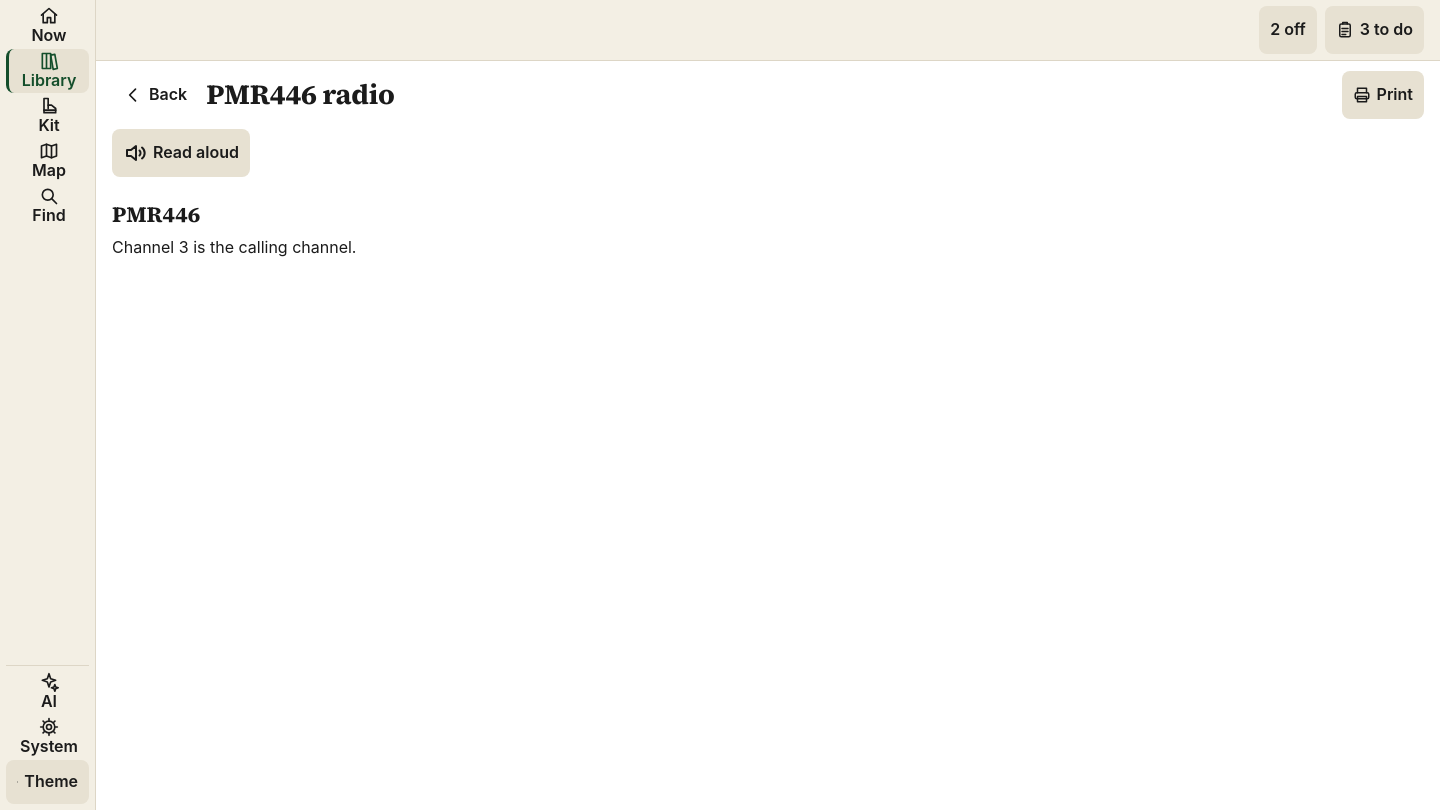
Test case: Read aloud › takes every read-aloud button away when the box answers 503
The image size is (1440, 810).
Click the button "Read aloud": (181, 153) [112, 129, 250, 177]
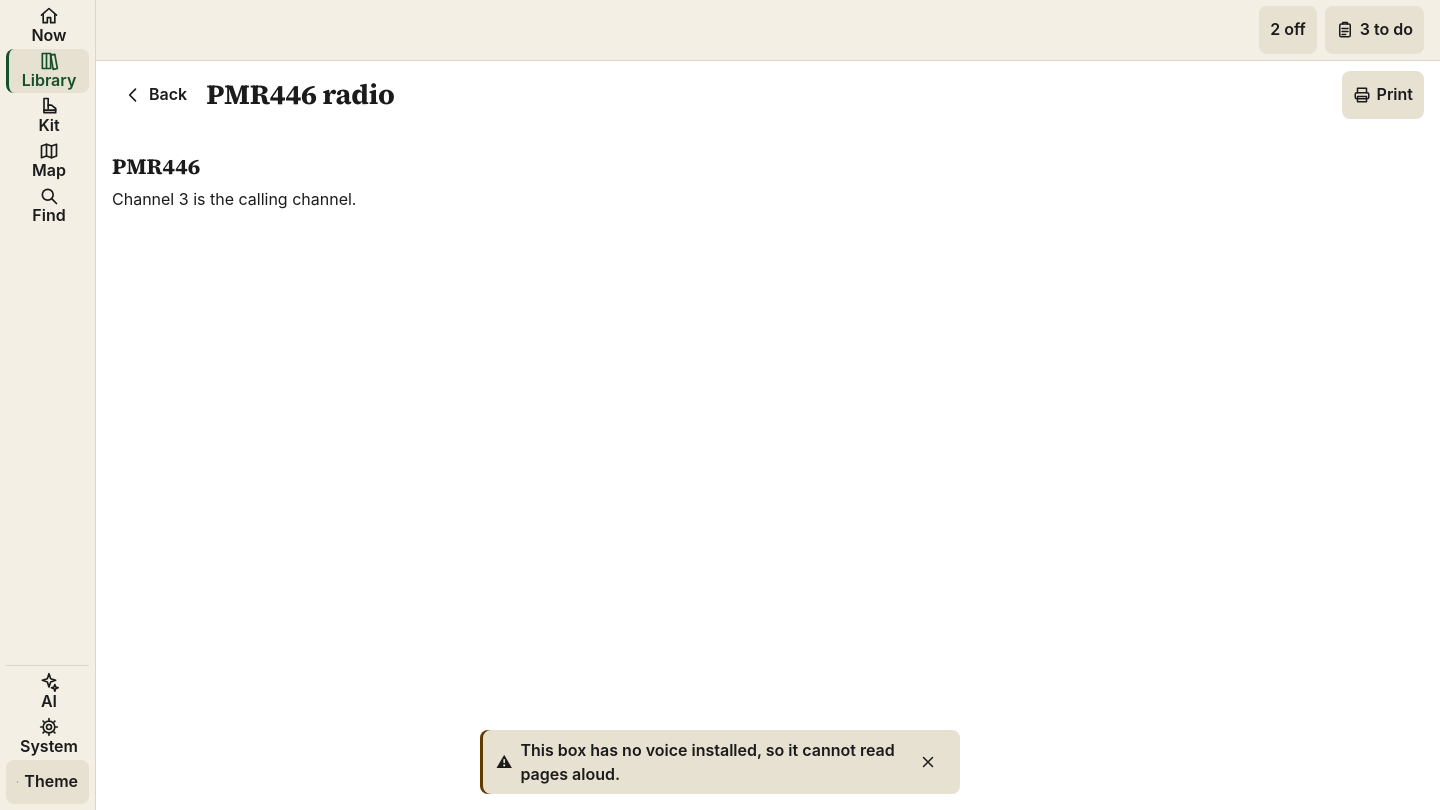
Check: the button "Read aloud" is gone
Check: the text "no voice installed" is shown, box [520, 740, 895, 784]
